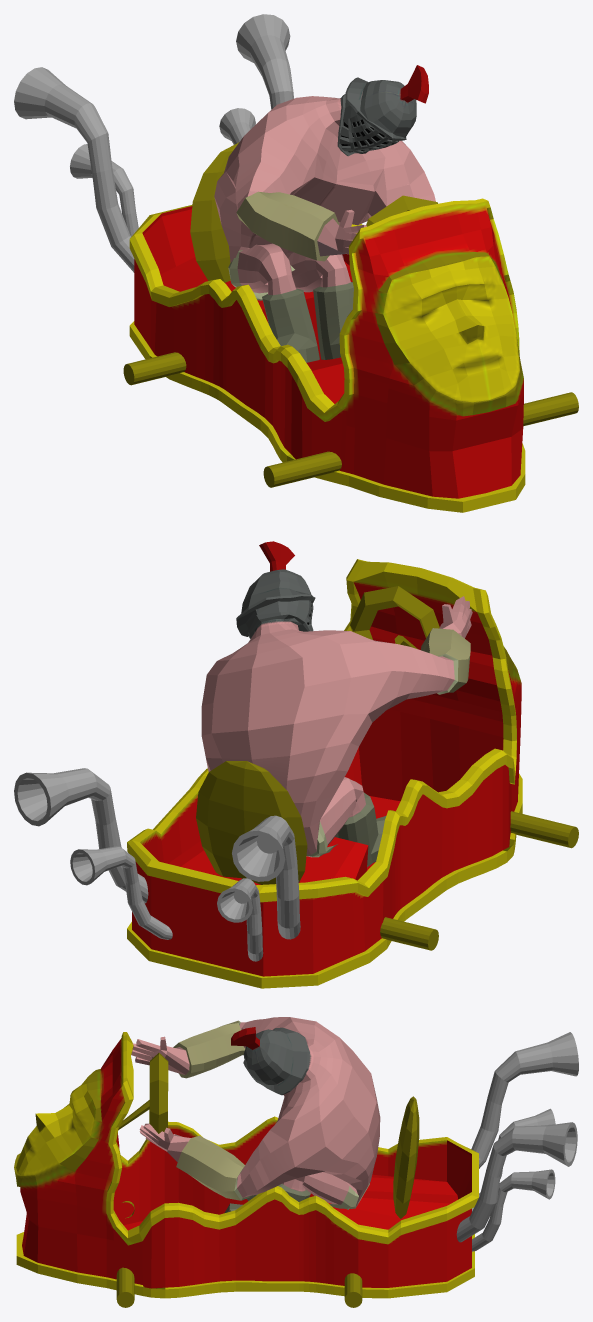
File: GladiGiroIzq_000558.obj
3 views of the same model, one above another, from view 1: azimuth 30°, elevation 25°; view 2: azimuth 150°, elevation 25°; view 3: azimuth 270°, elevation 25° (orthographic). The views are drawn at different scales.
Parts seen in each view (by area): view 1: GladiChasis_GladiChasisH, Gadiador_Gladiador_H, GladiTubos_GladiTubosH, GladiVolante_GladiVolanteH; view 2: GladiChasis_GladiChasisH, Gadiador_Gladiador_H, GladiTubos_GladiTubosH, GladiVolante_GladiVolanteH; view 3: GladiChasis_GladiChasisH, Gadiador_Gladiador_H, GladiTubos_GladiTubosH, GladiVolante_GladiVolanteH.
Part boxes in pixels (x1,y1,x2,y2): GladiChasis_GladiChasisH: (129,198,525,512); Gadiador_Gladiador_H: (214,65,435,362); GladiTubos_GladiTubosH: (14,14,293,272); GladiVolante_GladiVolanteH: (123,142,578,487); GladiChasis_GladiChasisH: (127,559,522,988); Gadiador_Gladiador_H: (201,541,472,866); GladiTubos_GladiTubosH: (14,768,300,961); GladiVolante_GladiVolanteH: (196,586,578,950); GladiChasis_GladiChasisH: (14,1032,478,1298); Gadiador_Gladiador_H: (131,1017,380,1212); GladiTubos_GladiTubosH: (456,1032,578,1251); GladiVolante_GladiVolanteH: (116,1053,419,1307).
Size of the model in its own units: 5.46 by 5.41 by 10.78.
Materials: 4 (4 with a texture image).
